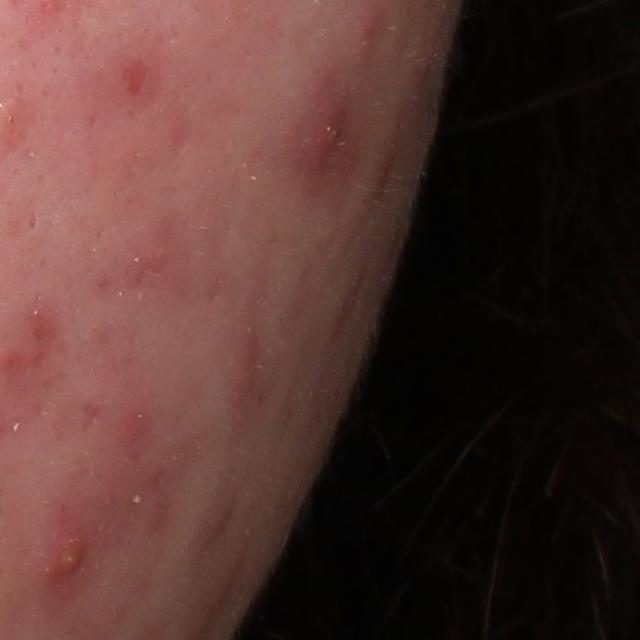atrophic_scar: (120, 57, 151, 98), (25, 208, 42, 231)
papule: (305, 100, 350, 172), (233, 336, 265, 400)
pustule: (42, 536, 94, 582)
